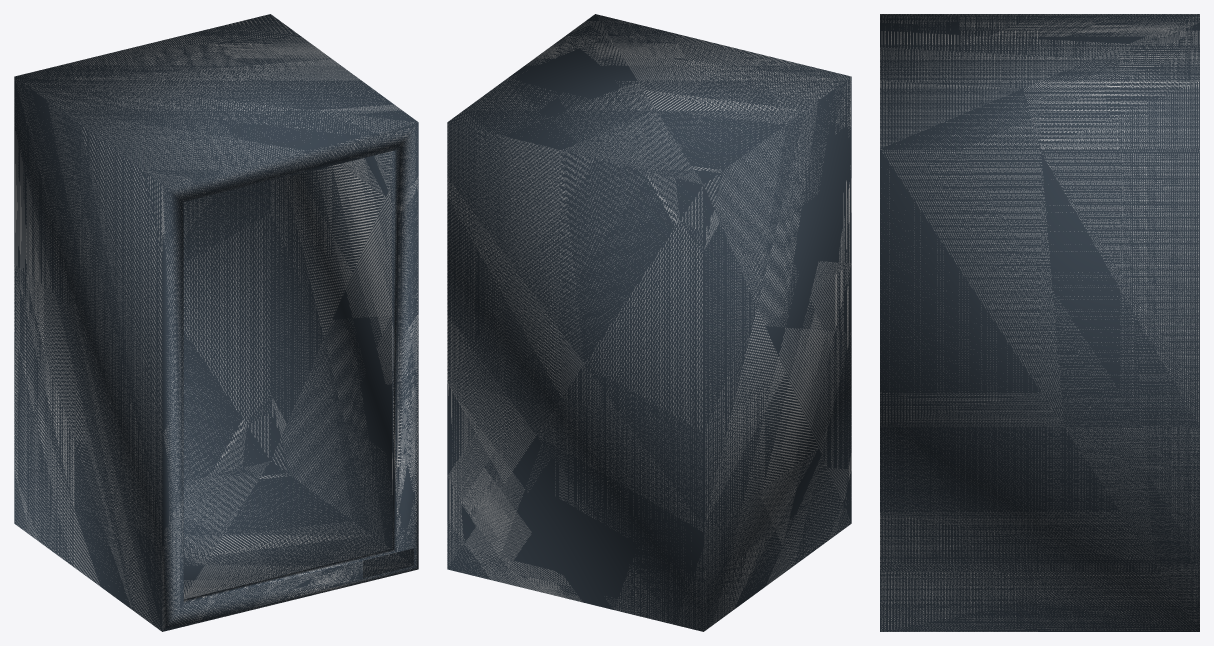
File: original-10.obj
The picture shows the model from 3 angles, left to right: view 1: azimuth 30°, elevation 25°; view 2: azimuth 150°, elevation 25°; view 3: azimuth 270°, elevation 25°; orthographic projection. The views are drawn at different scales.
Visible parts, largest first — view 1: mesh3/mesh3-geometry/material_0#mesh3-geometry; view 2: mesh3/mesh3-geometry/material_0#mesh3-geometry; view 3: mesh3/mesh3-geometry/material_0#mesh3-geometry.
Part boxes in pixels (bbox=[...]): mesh3/mesh3-geometry/material_0#mesh3-geometry: bbox=[14, 14, 418, 631]; mesh3/mesh3-geometry/material_0#mesh3-geometry: bbox=[447, 14, 851, 631]; mesh3/mesh3-geometry/material_0#mesh3-geometry: bbox=[880, 14, 1199, 631].
Size of the model in its own units: 0.702 by 1.17 by 0.702.
